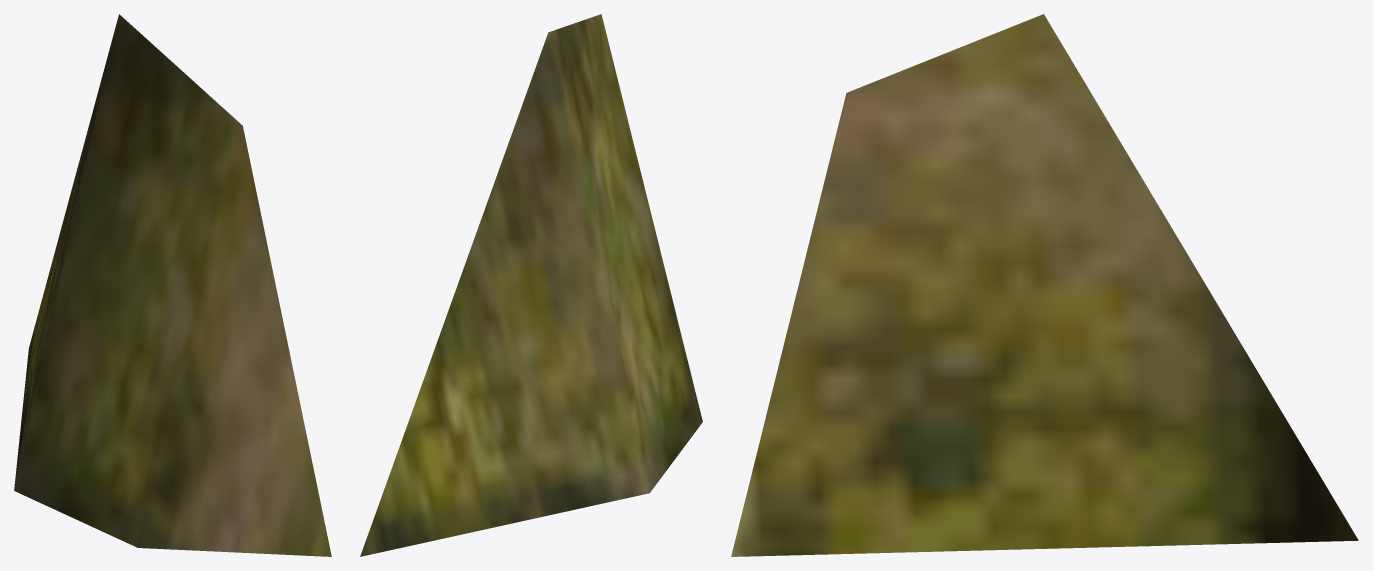
The model's file is OVERHILL_A_01_OBJECT201.fbx.
The picture shows the model from 3 angles, left to right: view 1: azimuth 30°, elevation 25°; view 2: azimuth 150°, elevation 25°; view 3: azimuth 270°, elevation 25°; orthographic projection. The views are drawn at different scales.
Parts seen in each view (by area): view 1: OVERHILL_A_01_OBJECT201; view 2: OVERHILL_A_01_OBJECT201; view 3: OVERHILL_A_01_OBJECT201.
Boxes of the visible parts, x1,y1,x2,y2 form: OVERHILL_A_01_OBJECT201: (14, 14, 331, 556); OVERHILL_A_01_OBJECT201: (360, 14, 702, 556); OVERHILL_A_01_OBJECT201: (731, 14, 1358, 556).
Size of the model in its own units: 3018 by 7477 by 8430.
Materials: 1 (1 with a texture image).
